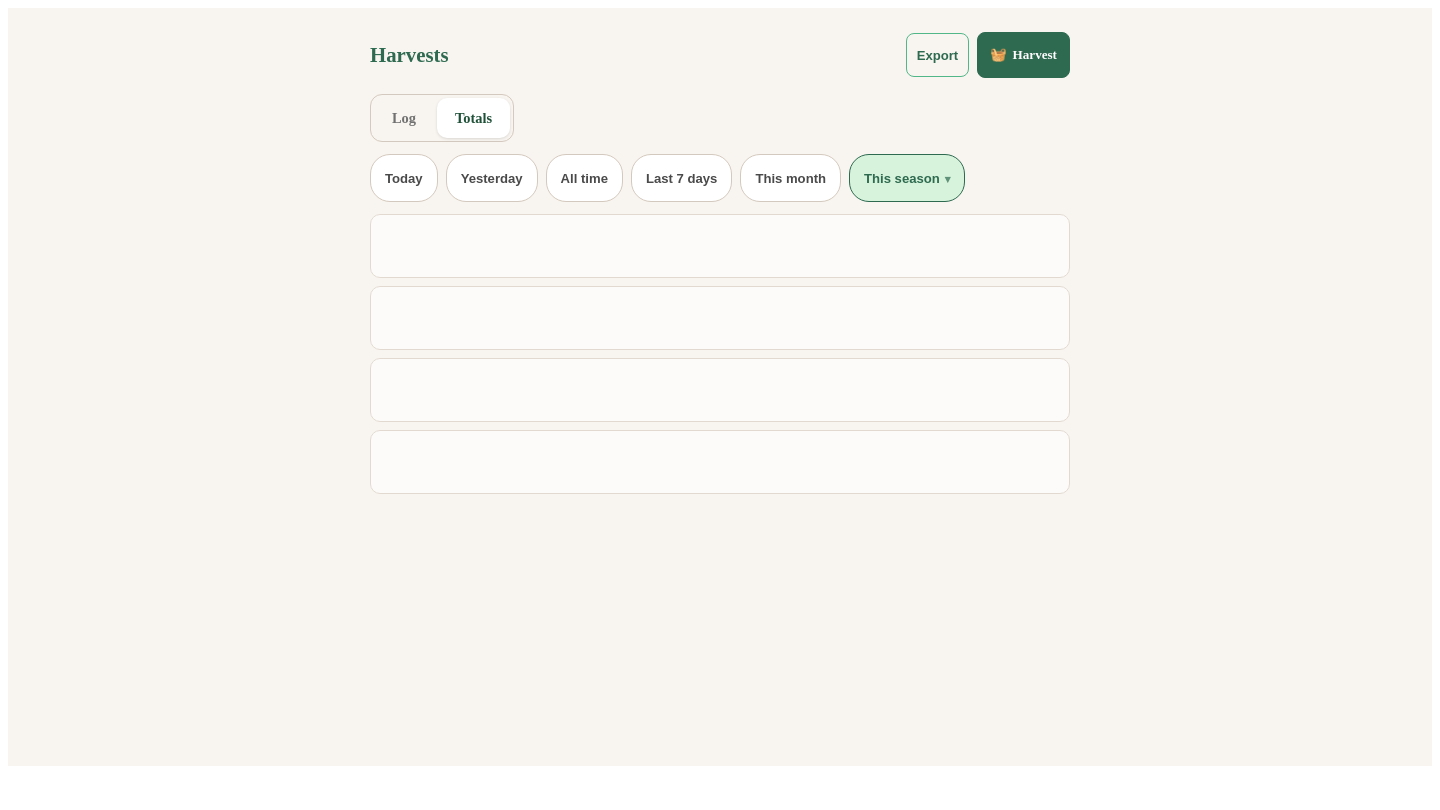
Test: Harvests — weight chip › marks an ESTIMATE with ≈ and carries the provenance sentence
The image size is (1440, 810).
Click the radio button labelled "Log" at (404, 118), box [374,98,434,138]
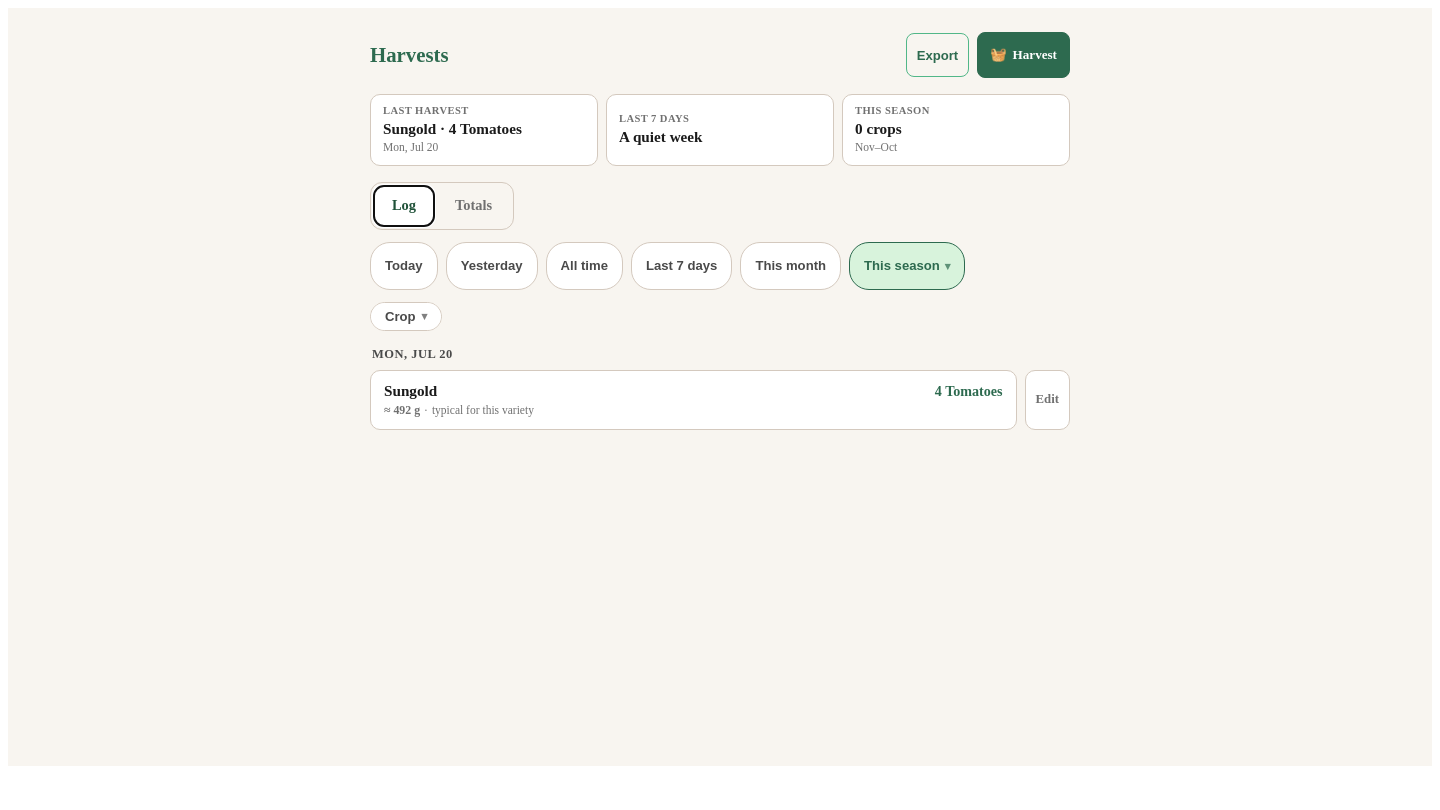
Expected: the picture with test id "harvest-weight" reads "≈ 492 g", [384,403,420,417]
